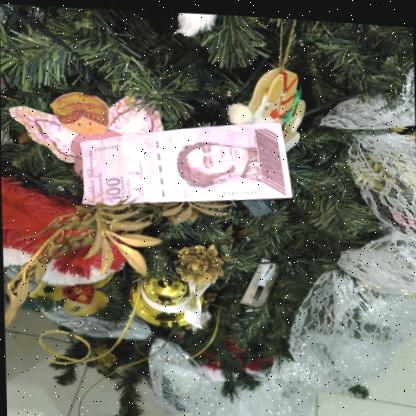one_hundred-front-vef: (77, 107, 294, 216)
